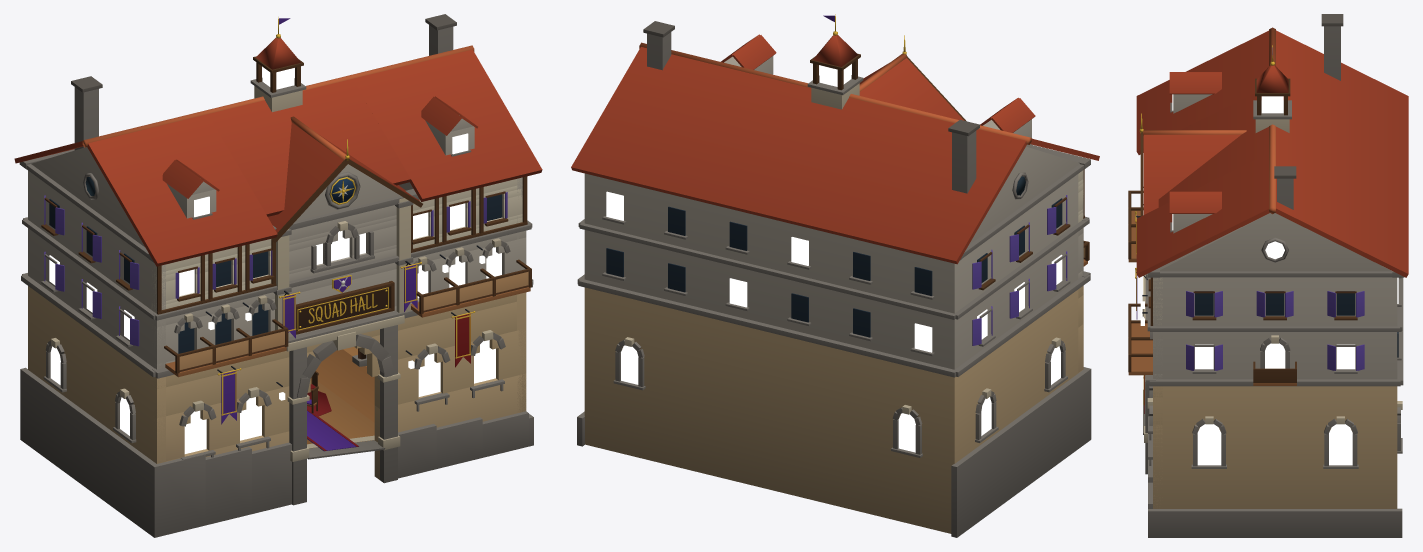
The model's file is hill_big_shop_low.glb.
3 views of the same model, side by side, from view 1: azimuth 30°, elevation 25°; view 2: azimuth 150°, elevation 25°; view 3: azimuth 270°, elevation 25° (orthographic). The views are drawn at different scales.
Parts seen in each view (by area): view 1: hill_R0_LOD1; view 2: hill_R0_LOD1; view 3: hill_R0_LOD1.
Part boxes in pixels (x1,y1,x2,y2): hill_R0_LOD1: [14, 14, 542, 537]; hill_R0_LOD1: [571, 14, 1099, 537]; hill_R0_LOD1: [1128, 14, 1408, 537].
Bounding box in the file's own units: 25.63 × 26.49 × 16.63.
